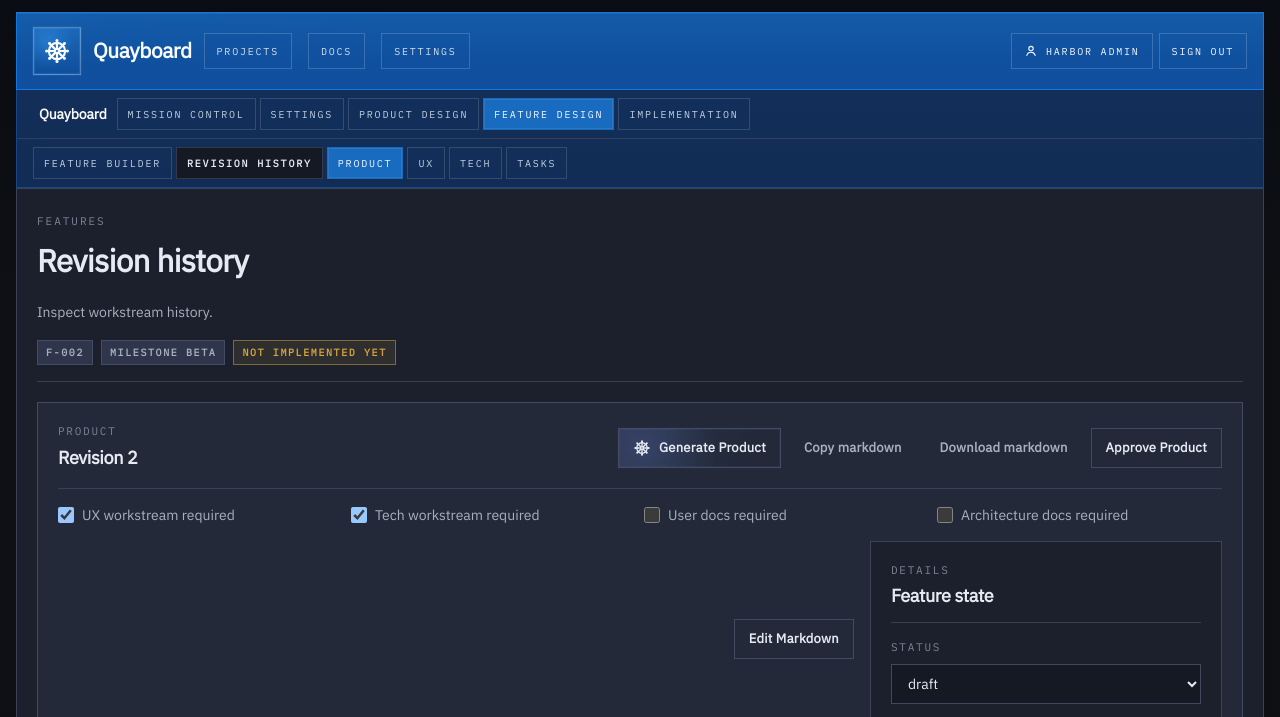
workflow pages › lets users select and inspect older feature workstream revisions
Check: the link "Feature Builder" is shown, box [33,147,172,179]
Check: the button "Product" is shown, box [327,147,403,179]
Click the button "Tasks" at (537, 163), box [506,147,567,179]
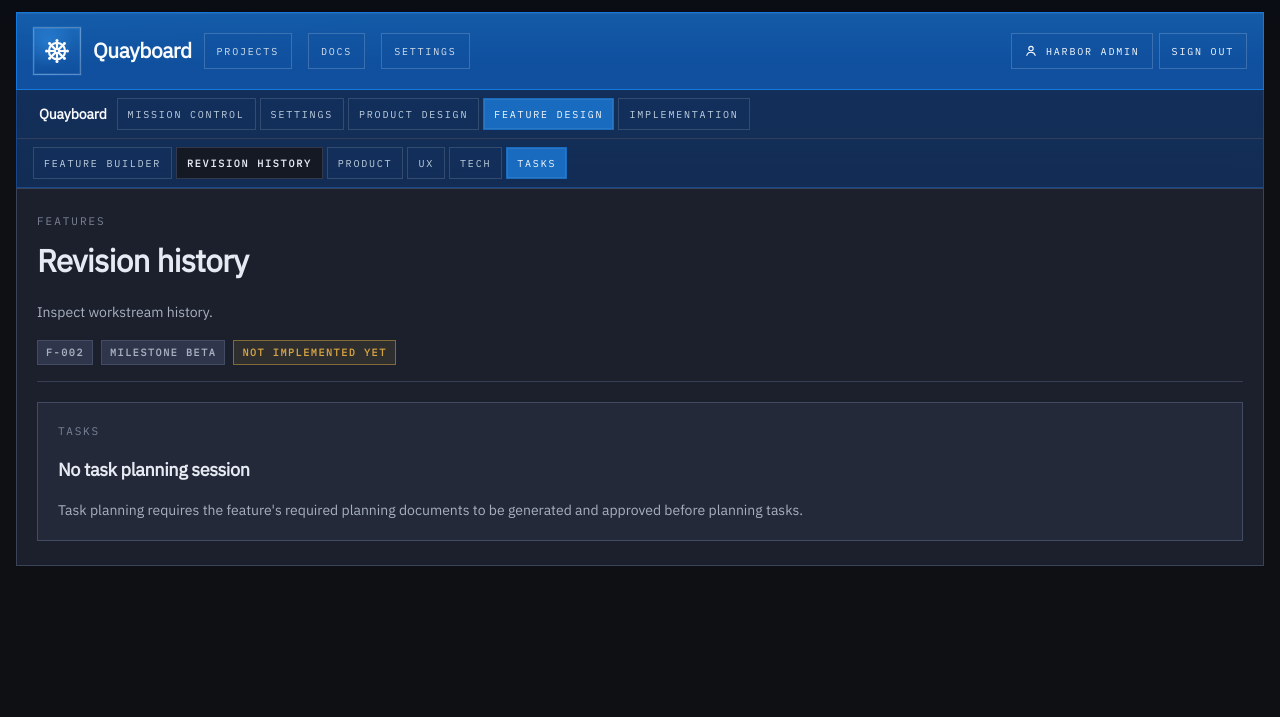
Check: the text "No task planning session" is shown, box [58,458,250,481]
Click the button "Product" at (365, 163), box [327,147,403,179]
(page scrolled)
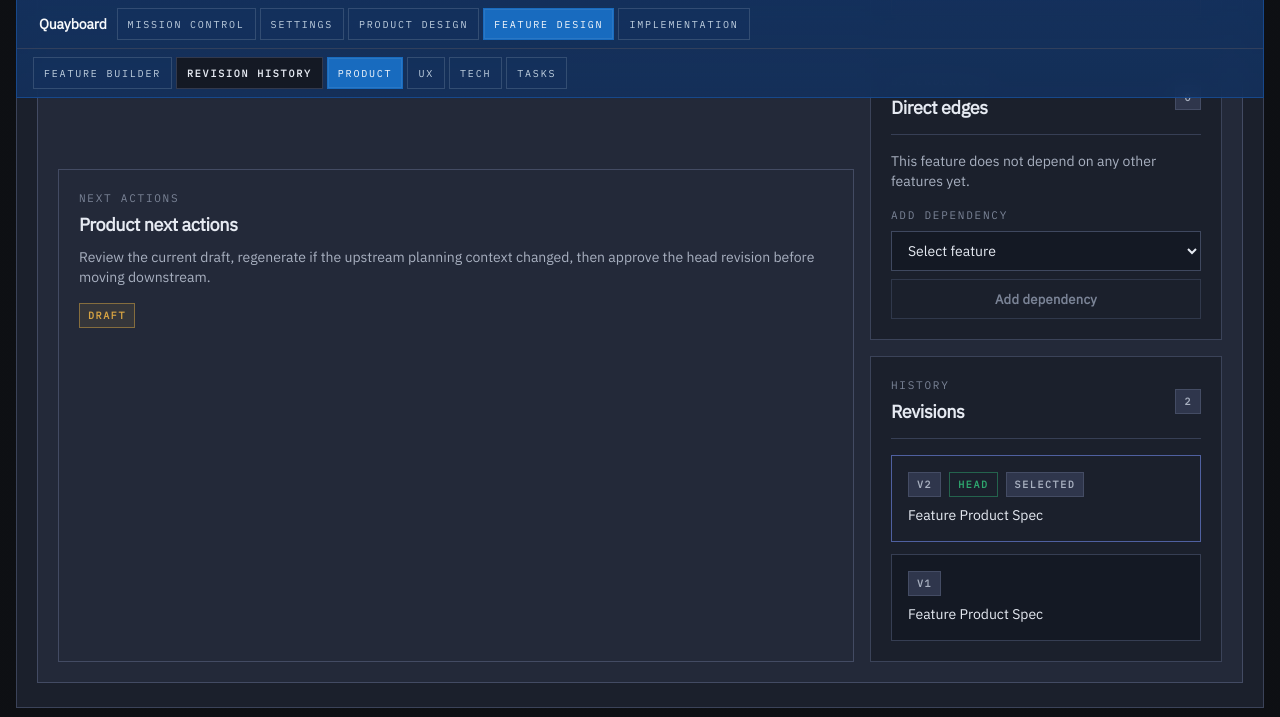
Click the button "v1 Feature Product Spec" at (925, 583), box [891,554,1201,641]
(page scrolled)
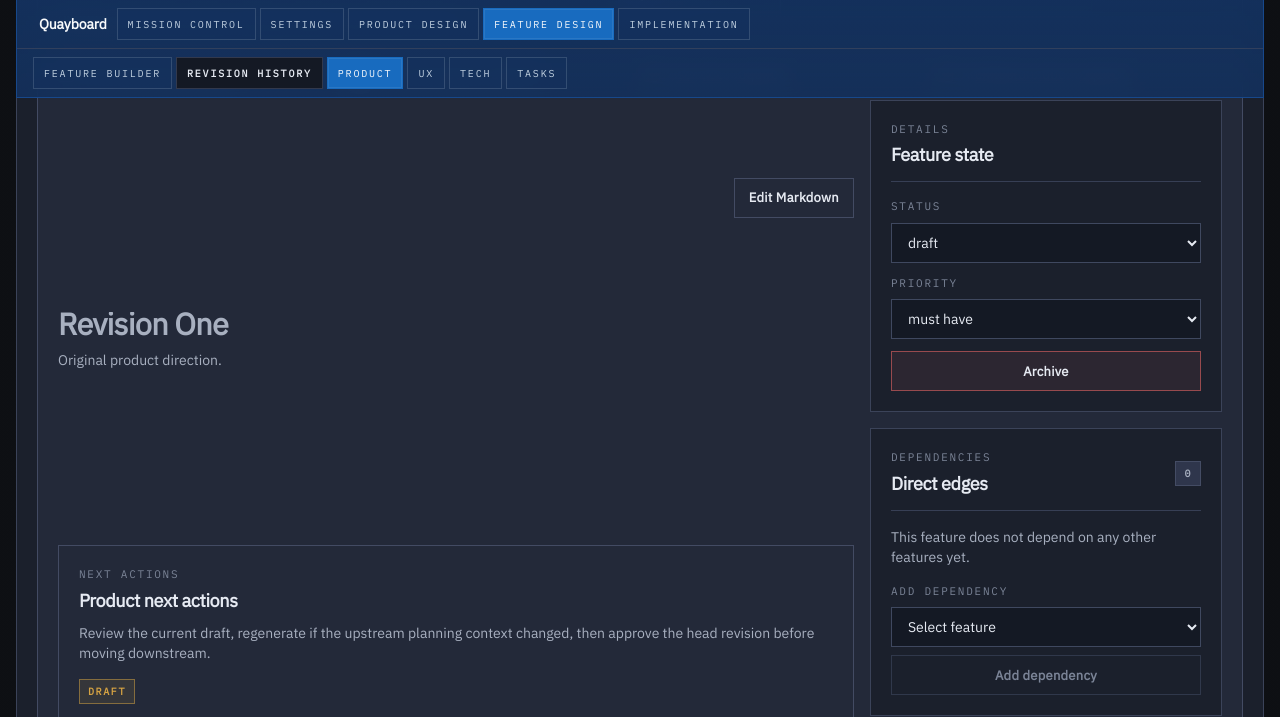
Check: the text "Viewing a historical revision. Saving creates a new head revision." is shown, box [58,11,461,31]
Check: the text "Original product direction." is shown, box [58,351,222,369]
